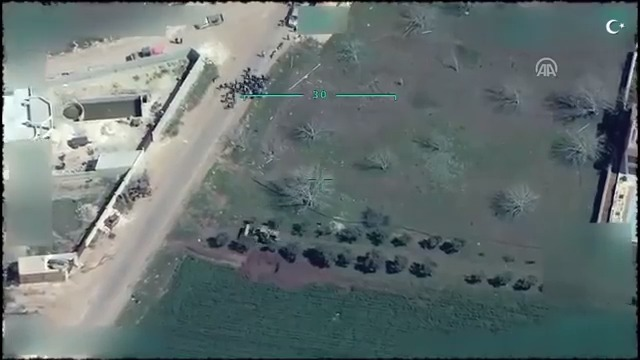arac: (238, 215, 284, 247), (196, 8, 229, 31)
insan: (256, 44, 270, 63)
